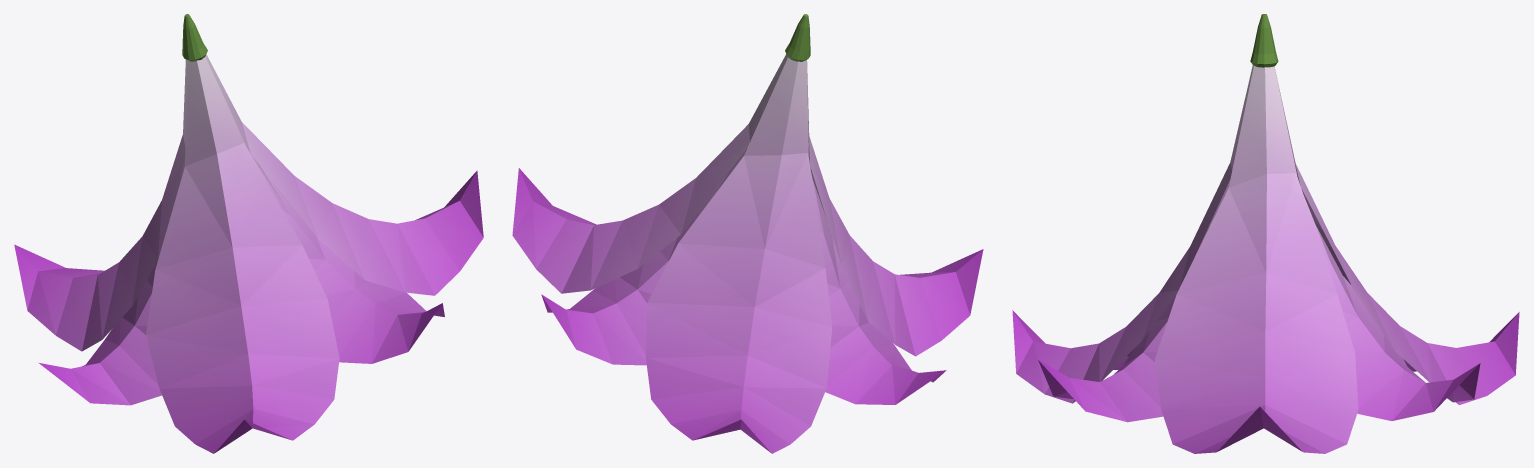
The model's file is PURPLE LILY HAT.fbx.
3 views of the same model, side by side, from view 1: azimuth 30°, elevation 25°; view 2: azimuth 150°, elevation 25°; view 3: azimuth 270°, elevation 25° (orthographic). The views are drawn at different scales.
Parts seen in each view (by area): view 1: PURPLE_LILY_HAT; view 2: PURPLE_LILY_HAT; view 3: PURPLE_LILY_HAT.
Part boxes in pixels (x1,y1,x2,y2): PURPLE_LILY_HAT: (14,14,483,453); PURPLE_LILY_HAT: (512,14,983,453); PURPLE_LILY_HAT: (1012,14,1519,453).
Size of the model in its own units: 45.5 by 36.34 by 42.91.
